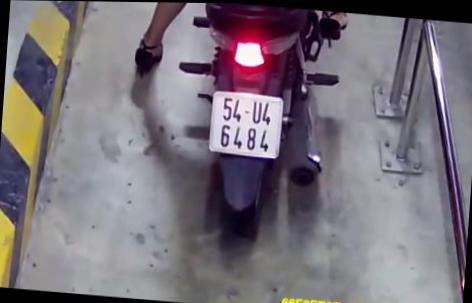LP: (208, 87, 284, 160)
